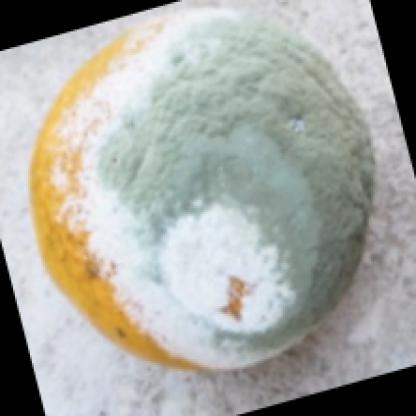rotten_orange: (18, 13, 372, 370)
